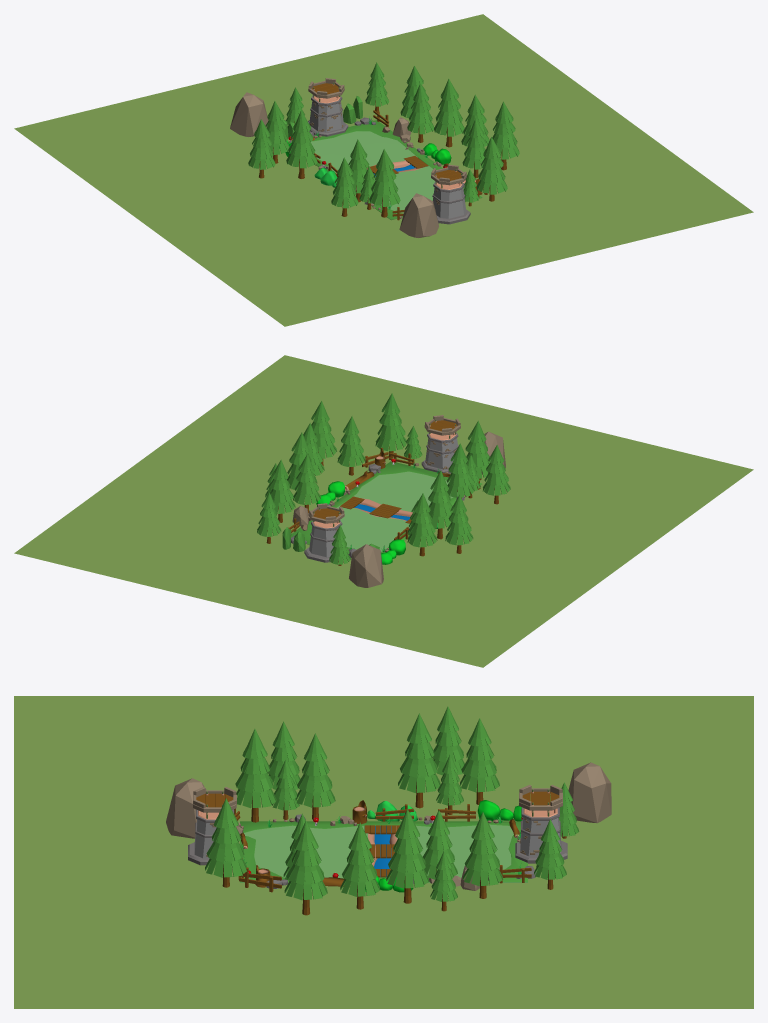
The model's file is env_natrure.fbx.
3 views of the same model, one above another, from view 1: azimuth 30°, elevation 25°; view 2: azimuth 150°, elevation 25°; view 3: azimuth 270°, elevation 25° (orthographic). The views are drawn at different scales.
Parts seen in each view (by area): view 1: plane, ground, turn1, turn, Rock15, brad9, brad1, brad14, brad5, Rock33, iarba, brad18 (+10 smaller); view 2: plane, ground, turn, turn1, Rock33, brad5, iarba, brad11, brad9, brad, brad10, brad17 (+9 smaller); view 3: plane, ground, turn1, iarba, brad14, brad18, brad9, brad1, brad5, Rock33, turn, brad12 (+12 smaller).
Part boxes in pixels (box(x1,y1,x2,y2)): plane: box(14, 14, 753, 326); ground: box(311, 131, 482, 213); turn1: box(308, 78, 348, 136); turn: box(431, 164, 470, 224); Rock15: box(399, 193, 438, 237); brad9: box(286, 110, 317, 178); brad1: box(369, 149, 400, 217); brad14: box(434, 78, 464, 147); brad5: box(476, 137, 507, 201); Rock33: box(230, 92, 268, 136); iarba: box(288, 120, 482, 219); brad18: box(492, 101, 519, 170); plane: box(14, 355, 753, 667); ground: box(307, 471, 457, 551); turn: box(421, 415, 460, 473); turn1: box(304, 503, 344, 562); Rock33: box(349, 544, 383, 587); brad5: box(375, 393, 407, 457); iarba: box(291, 461, 482, 553); brad11: box(407, 493, 437, 556); brad9: box(428, 470, 453, 539); brad: box(447, 443, 474, 498); brad10: box(445, 494, 473, 553); brad17: box(337, 416, 365, 475); plane: box(14, 696, 753, 1008); ground: box(240, 824, 527, 882); turn1: box(515, 785, 567, 863); iarba: box(240, 821, 527, 882); brad14: box(386, 809, 429, 903); brad18: box(284, 821, 327, 915); brad9: box(398, 713, 440, 808); brad1: box(235, 729, 276, 822); brad5: box(205, 798, 246, 887); Rock33: box(568, 762, 611, 822); turn: box(188, 787, 236, 865); brad12: box(463, 812, 503, 898).
Size of the model in its own units: 61.66 by 12.55 by 61.66.
